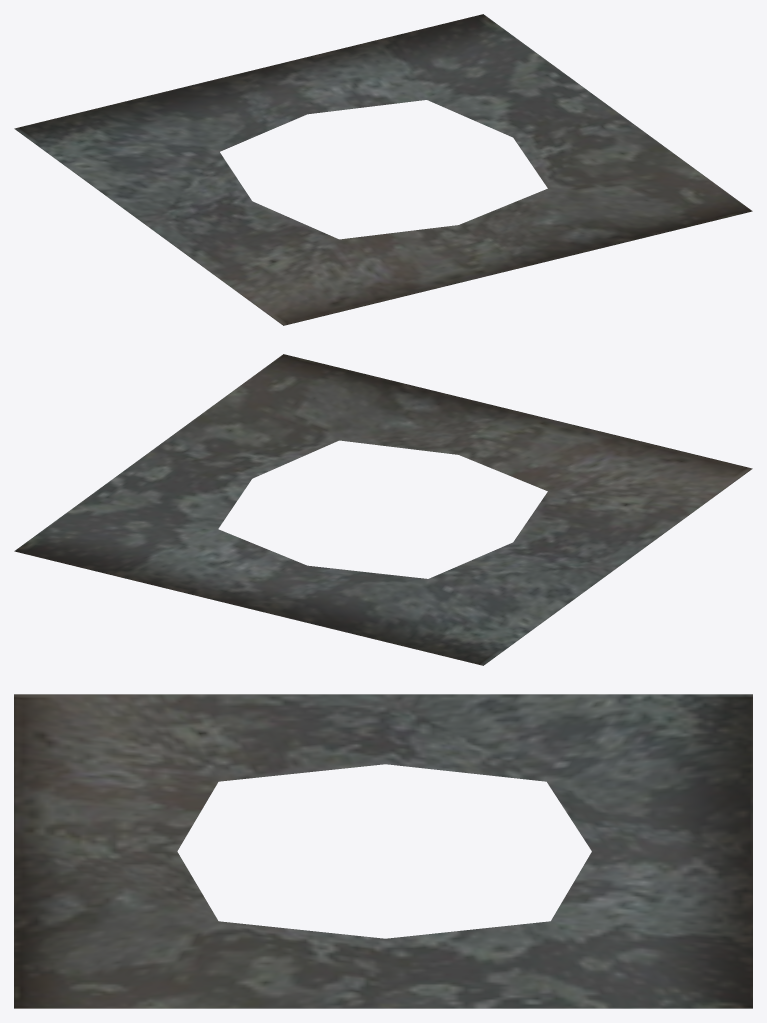
Rendered from roof-prop.glb.
3 renders of one model, top to bottom at view 1: azimuth 30°, elevation 25°; view 2: azimuth 150°, elevation 25°; view 3: azimuth 270°, elevation 25°, orthographic. The views are drawn at different scales.
Parts seen in each view (by area): view 1: Plane.001; view 2: Plane.001; view 3: Plane.001.
Boxes of the visible parts, box(x1,y1,x2,y2) form: Plane.001: box(14, 14, 752, 325); Plane.001: box(14, 354, 752, 665); Plane.001: box(14, 694, 752, 1008).
Size of the model in its own units: 1.8 by 0 by 1.79.
Materials: 1 (1 with a texture image).
